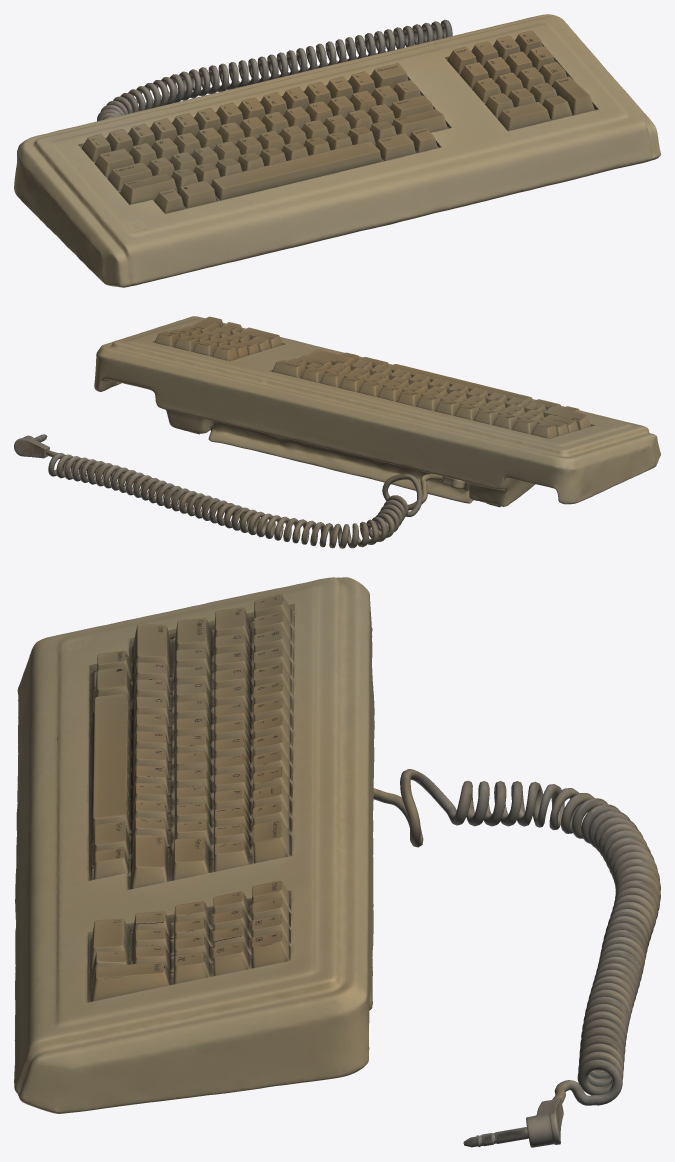
Rendered from apple_1984_keyboard.glb.
The picture shows the model from 3 angles, top to bottom: view 1: azimuth 30°, elevation 25°; view 2: azimuth 150°, elevation 25°; view 3: azimuth 270°, elevation 25°; orthographic projection. The views are drawn at different scales.
Visible parts, largest first — view 1: KLAWIATURA_Klawiatura_0.001_0; view 2: KLAWIATURA_Klawiatura_0.001_0; view 3: KLAWIATURA_Klawiatura_0.001_0.
Part boxes in pixels (box(x1,y1,x2,y2)): KLAWIATURA_Klawiatura_0.001_0: box(14, 14, 660, 287); KLAWIATURA_Klawiatura_0.001_0: box(14, 316, 660, 548); KLAWIATURA_Klawiatura_0.001_0: box(14, 577, 660, 1147).
Size of the model in its own units: 6.9 by 1.1 by 4.21.
Materials: 1 (1 with a texture image).
